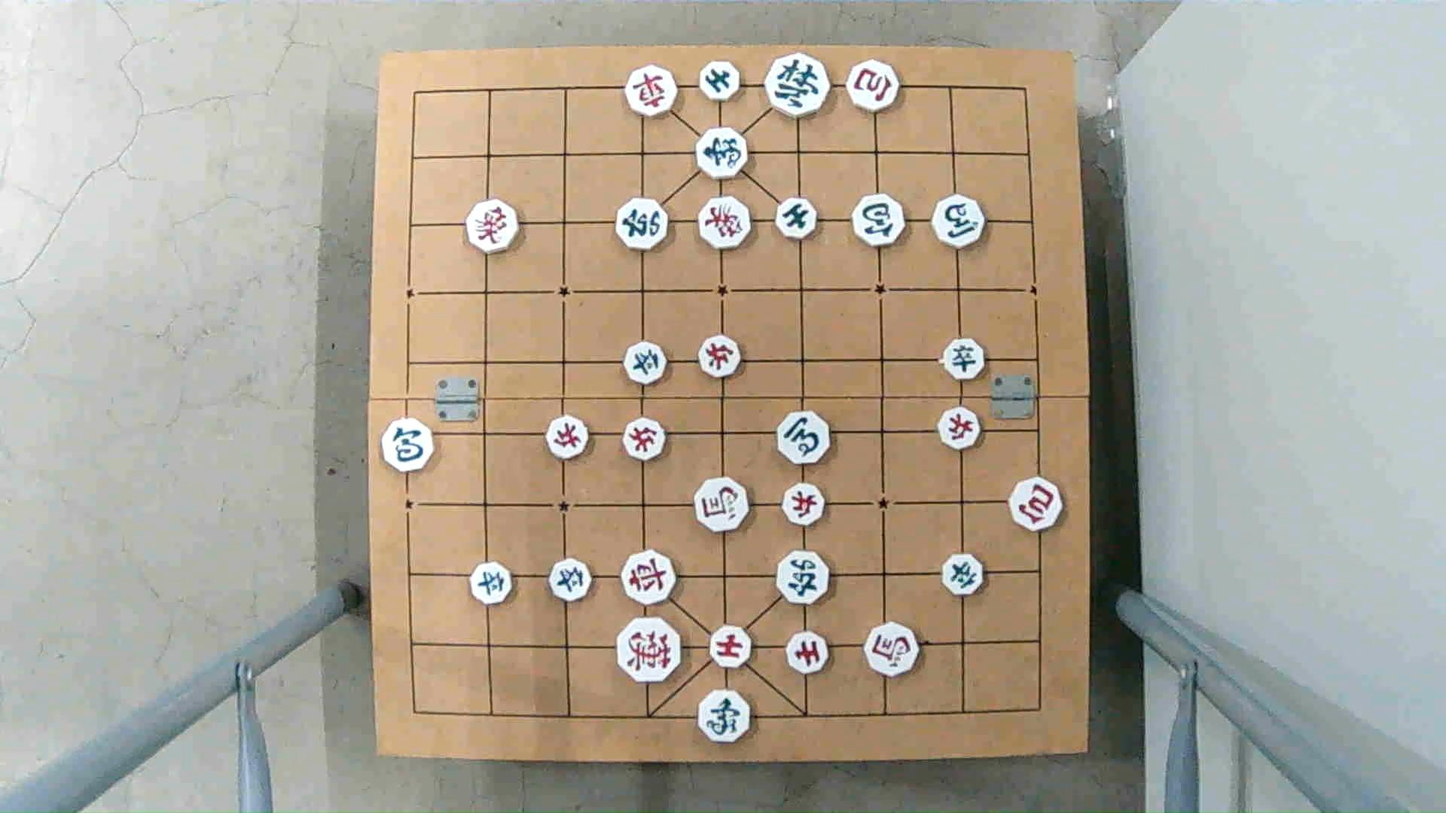cha_green: (776, 551, 833, 601), (616, 197, 667, 248)
cha_red: (620, 552, 675, 604), (624, 68, 676, 114)
jol_green: (468, 565, 517, 603), (548, 561, 594, 601), (623, 343, 667, 384), (943, 338, 986, 379), (940, 556, 987, 593)
jol_red: (696, 338, 743, 377), (544, 418, 592, 456), (938, 411, 984, 450), (781, 483, 828, 521), (621, 420, 668, 458)
ma_green: (773, 415, 831, 465), (932, 196, 987, 244)
ma_red: (697, 480, 749, 530), (865, 626, 917, 671)
po_green: (381, 419, 435, 471), (850, 198, 907, 246)
po_red: (1009, 478, 1062, 528), (847, 62, 898, 111)
sa_green: (773, 198, 821, 236), (698, 62, 741, 101)
sa_red: (707, 626, 752, 668), (785, 632, 828, 671)
sang_green: (698, 690, 749, 742), (694, 129, 749, 175)
sang_red: (463, 201, 519, 251), (697, 199, 754, 248)
wang_green: (763, 57, 828, 111)
wang_red: (621, 623, 676, 679)
